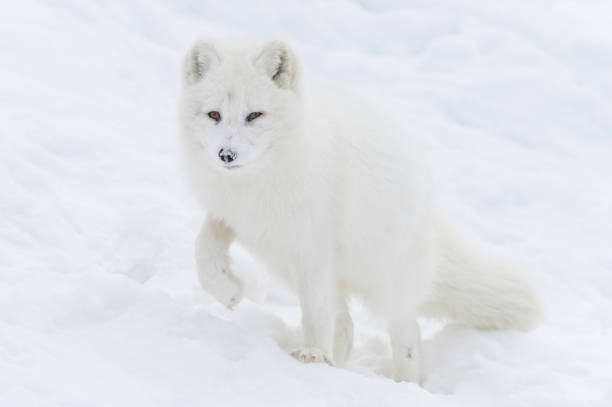arcticfox: (190, 60, 293, 199)
